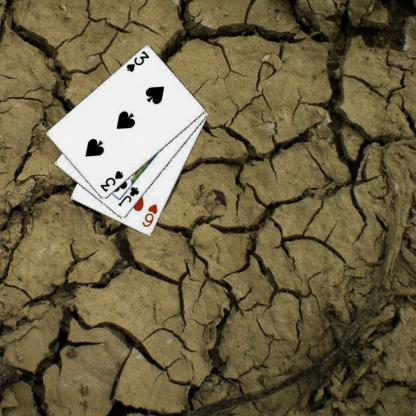3S: (98, 168, 124, 194), (124, 49, 150, 73)
6H: (139, 202, 159, 229)
JC: (115, 184, 141, 208)
